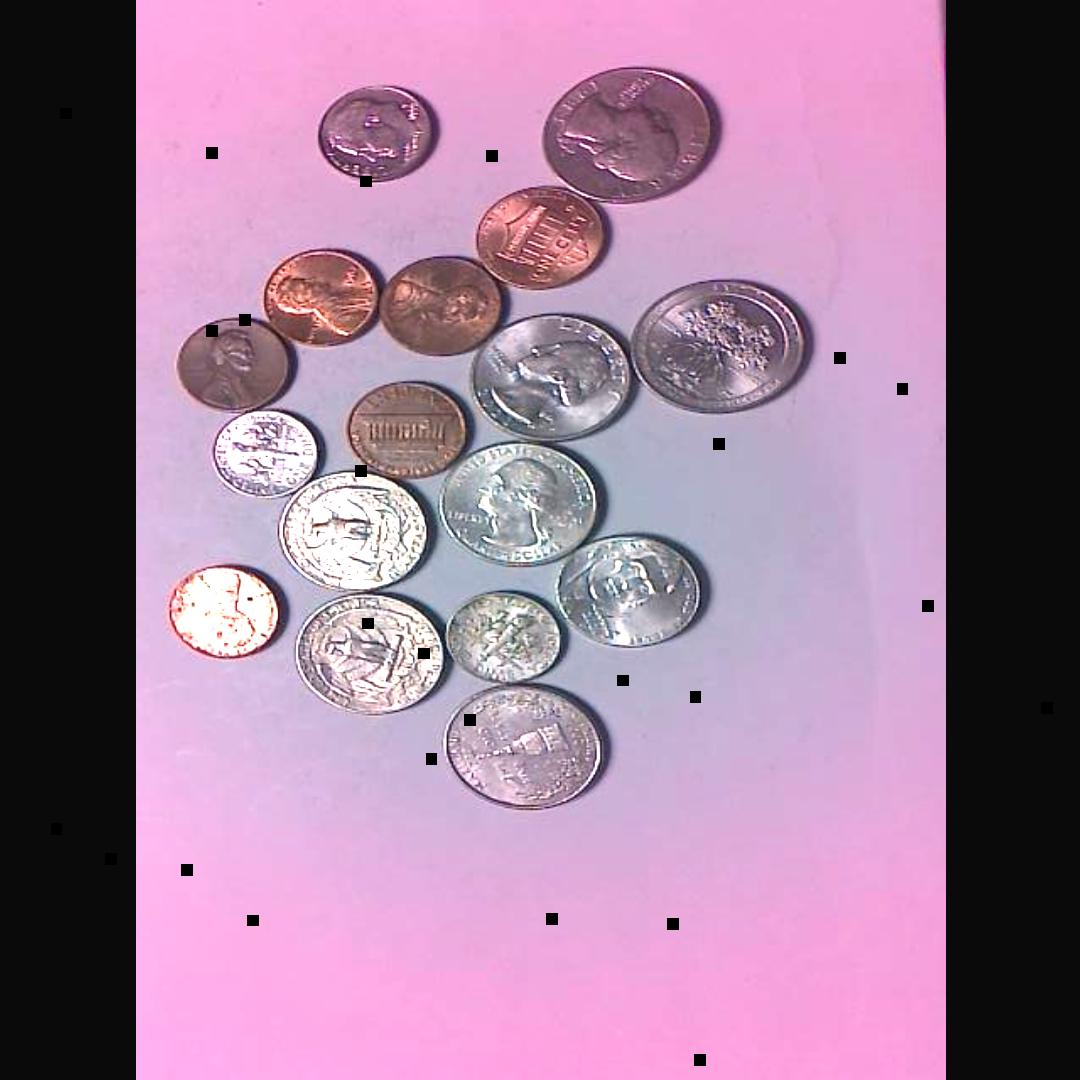Dime: (309, 74, 442, 186), (434, 587, 569, 682), (206, 405, 322, 501)
Nickel: (555, 530, 712, 651)
Penny: (469, 186, 611, 290), (343, 375, 472, 481), (258, 243, 386, 346), (162, 557, 285, 662), (380, 256, 505, 354), (174, 317, 295, 412)
Quarter: (624, 277, 815, 417), (537, 62, 722, 204), (417, 439, 608, 570), (464, 310, 641, 442), (440, 682, 613, 815), (272, 471, 439, 592), (292, 591, 449, 719)
